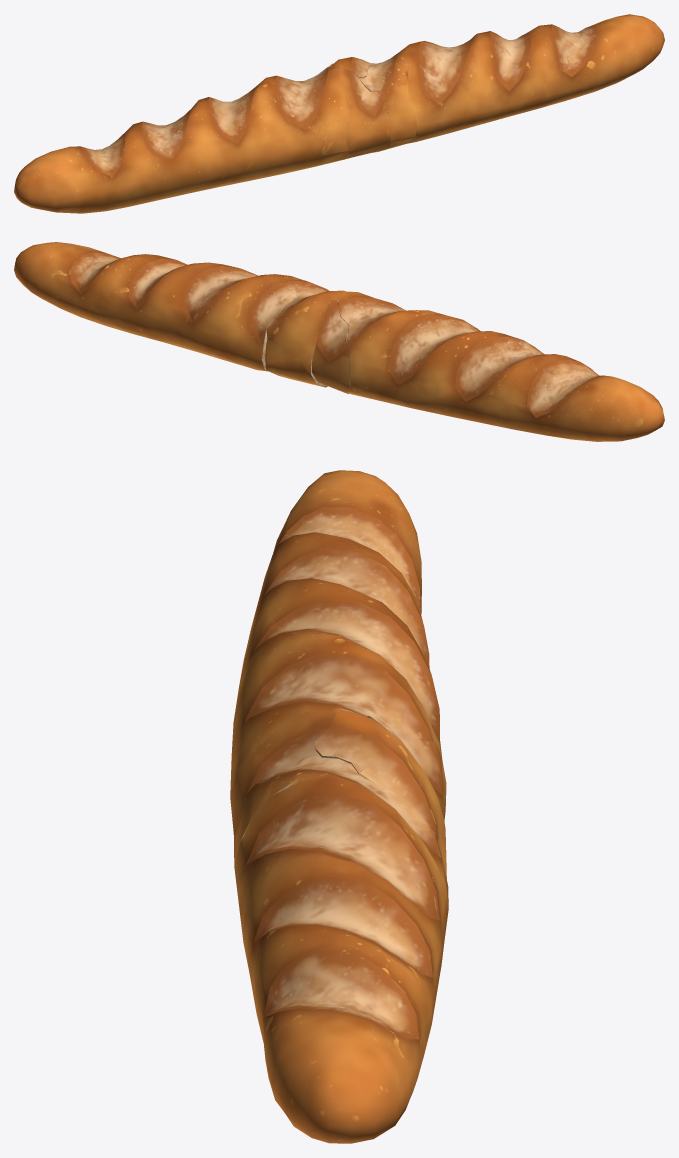
The model's file is Baguette_Broken_FOUR_Pieces.fbx.
3 views of the same model, one above another, from view 1: azimuth 30°, elevation 25°; view 2: azimuth 150°, elevation 25°; view 3: azimuth 270°, elevation 25° (orthographic). The views are drawn at different scales.
Visible parts, largest first — view 1: Baguette_TopHalf_Broken, Baguette_BottomHalf_Broken, Baguette_TopHalf_Broken_LeftPiece, Baguette_BottomHalf_Broken_RightPiece, Baguette_BottomHalf_Broken_LeftPiece; view 2: Baguette_TopHalf_Broken, Baguette_BottomHalf_Broken, Baguette_BottomHalf_Broken_LeftPiece, Baguette_TopHalf_Broken_RightPiece, Baguette_BottomHalf_Broken_RightPiece; view 3: Baguette_BottomHalf_Broken, Baguette_TopHalf_Broken, Baguette_BottomHalf_Broken_LeftPiece, Baguette_TopHalf_Broken_LeftPiece, Baguette_BottomHalf_Broken_RightPiece, Baguette_TopHalf_Broken_RightPiece.
Part boxes in pixels (x1,y1,x2,y2): Baguette_TopHalf_Broken: (14, 66, 348, 213); Baguette_BottomHalf_Broken: (373, 14, 664, 143); Baguette_TopHalf_Broken_LeftPiece: (339, 68, 388, 159); Baguette_BottomHalf_Broken_RightPiece: (359, 61, 417, 152); Baguette_BottomHalf_Broken_LeftPiece: (331, 57, 374, 78); Baguette_TopHalf_Broken: (338, 291, 664, 441); Baguette_BottomHalf_Broken: (14, 242, 297, 371); Baguette_BottomHalf_Broken_LeftPiece: (265, 290, 345, 387); Baguette_TopHalf_Broken_RightPiece: (312, 300, 349, 393); Baguette_BottomHalf_Broken_RightPiece: (294, 278, 328, 297); Baguette_BottomHalf_Broken: (234, 771, 448, 1143); Baguette_TopHalf_Broken: (230, 470, 442, 786); Baguette_BottomHalf_Broken_LeftPiece: (315, 708, 446, 878); Baguette_TopHalf_Broken_LeftPiece: (230, 709, 335, 834); Baguette_BottomHalf_Broken_RightPiece: (234, 745, 359, 864); Baguette_TopHalf_Broken_RightPiece: (367, 716, 446, 820).
Size of the model in its own units: 5.33 by 0.715 by 0.7812.
